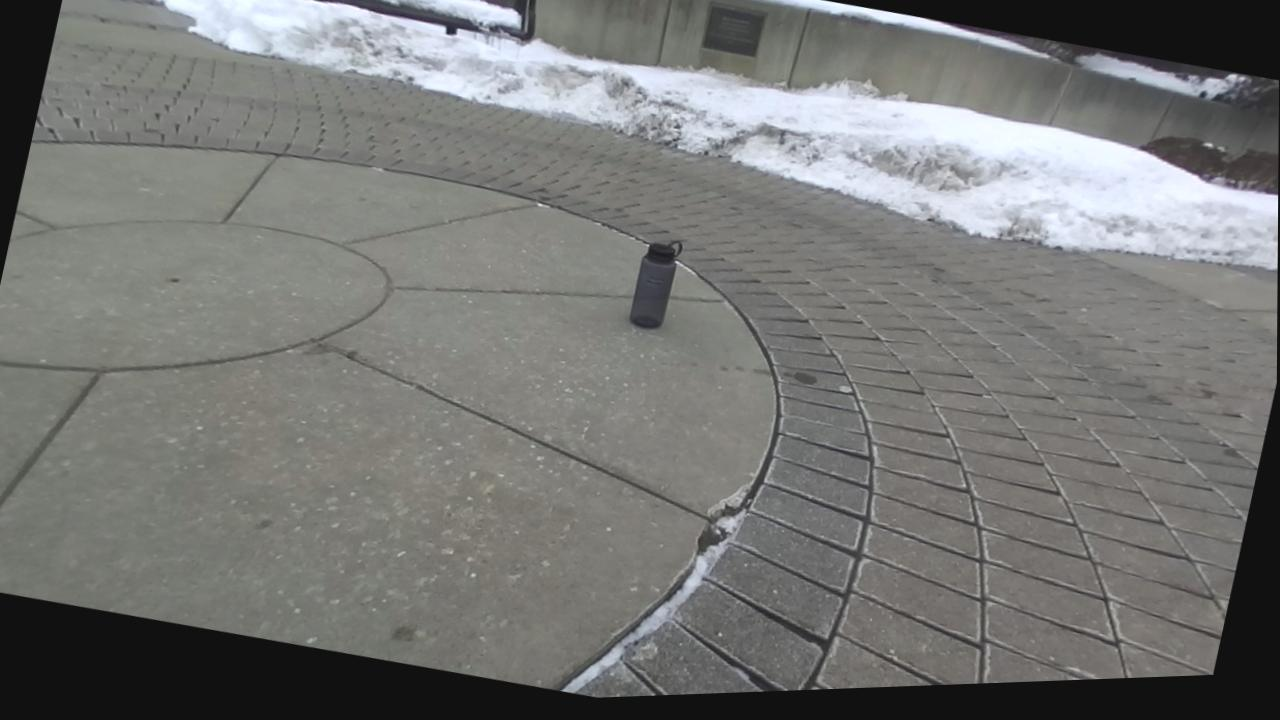bottle: (629, 243, 681, 328)
